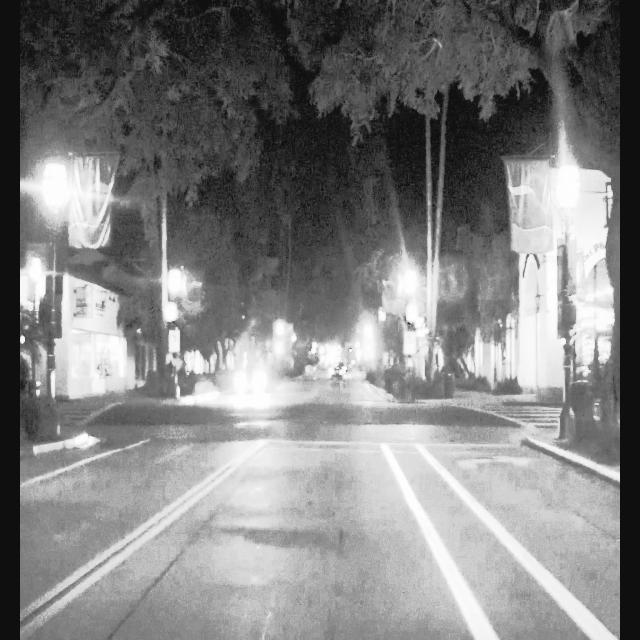Light: (405, 299, 419, 327), (166, 304, 178, 324)
Tree: (589, 0, 620, 472)
